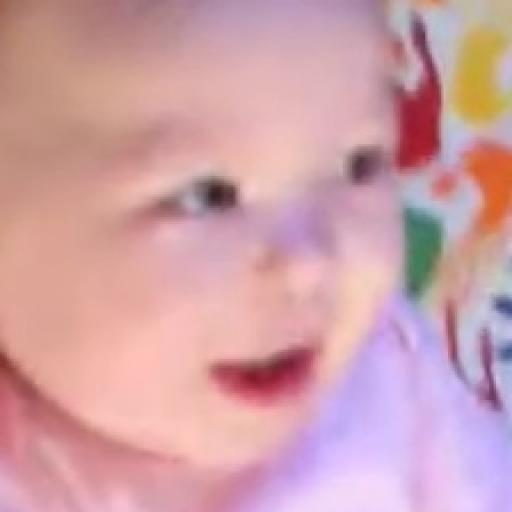Autism: (10, 4, 413, 476)
